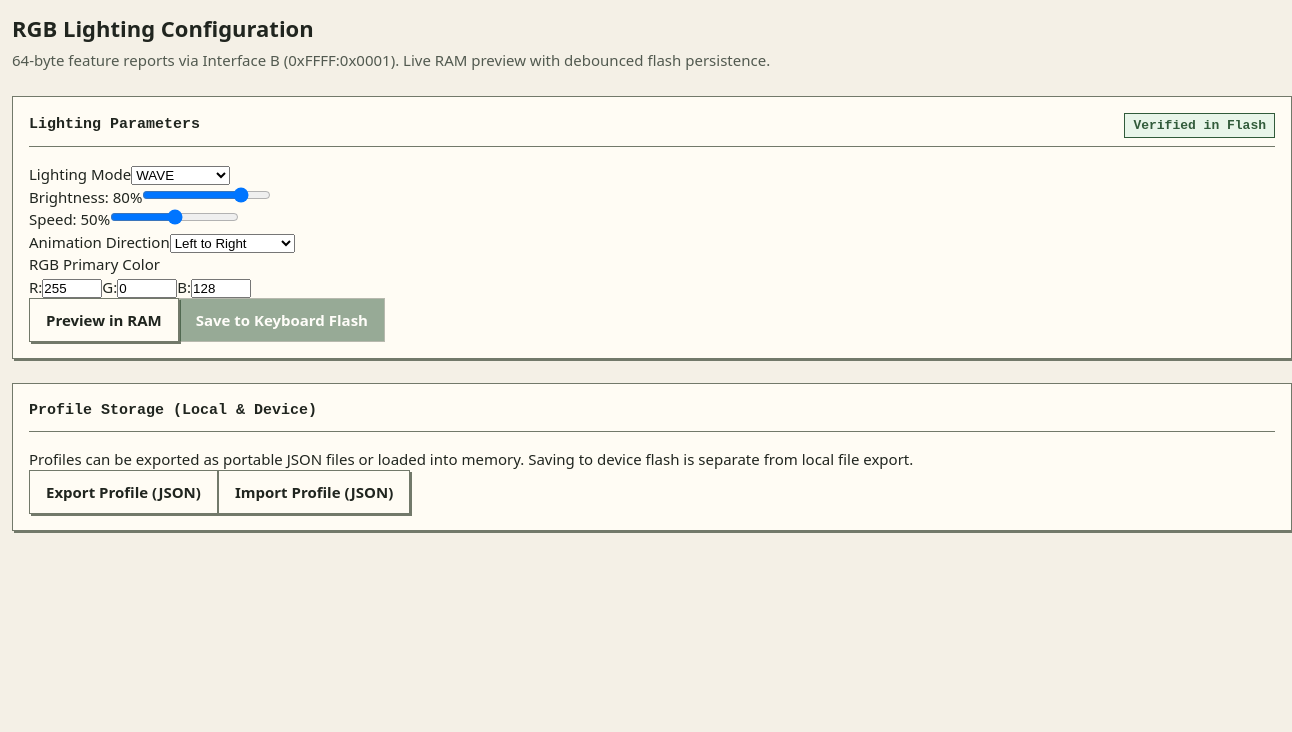
Test case: LightingPage Workflow and Safety Rails › requires explicit user confirmation before committing to flash memory
Check: the heading "RGB Lighting Configuration" is shown, box [12,13,314,43]
# Save to Keyboard Flash requires preview to be accepted first
Click the button "Preview in RAM" at {"x": 104, "y": 320}, box [29,298,179,342]
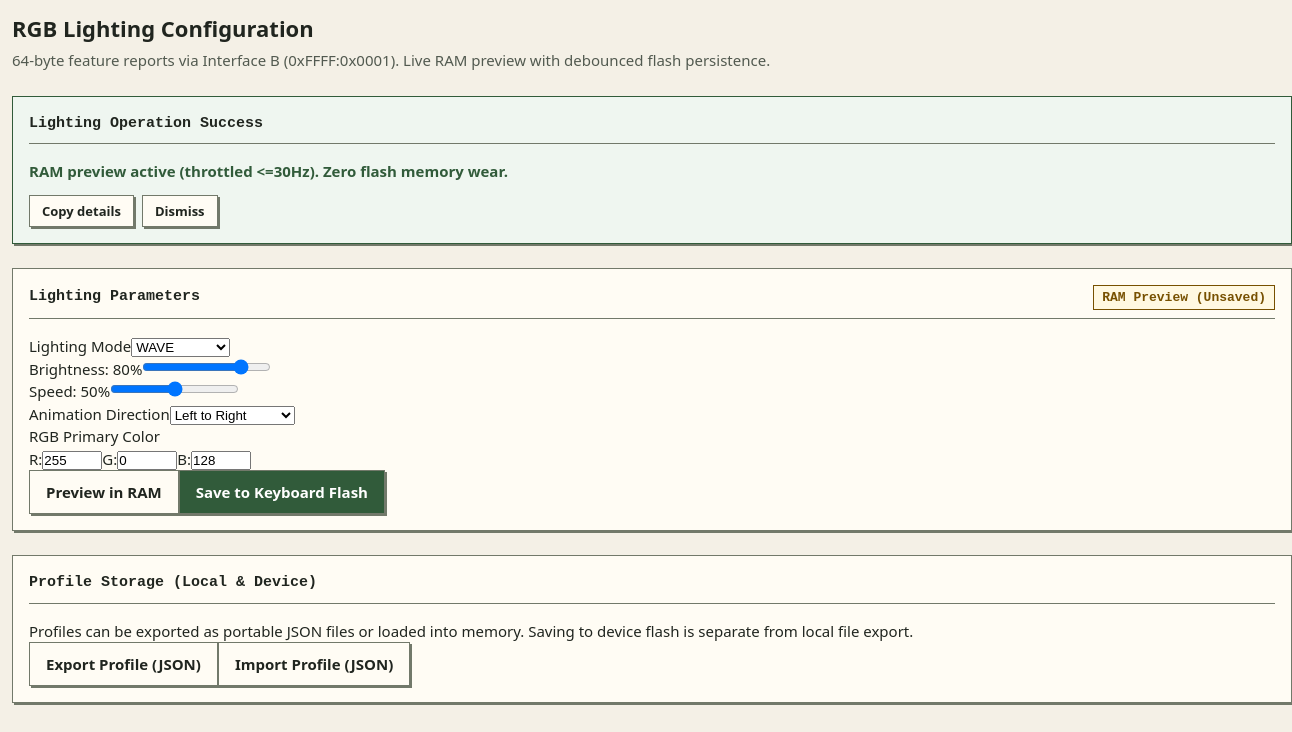
Check: the text "RAM preview active" is shown, box [29,161,508,181]
Click the button "Save to Keyboard Flash" at {"x": 282, "y": 492}, box [179,470,385,514]
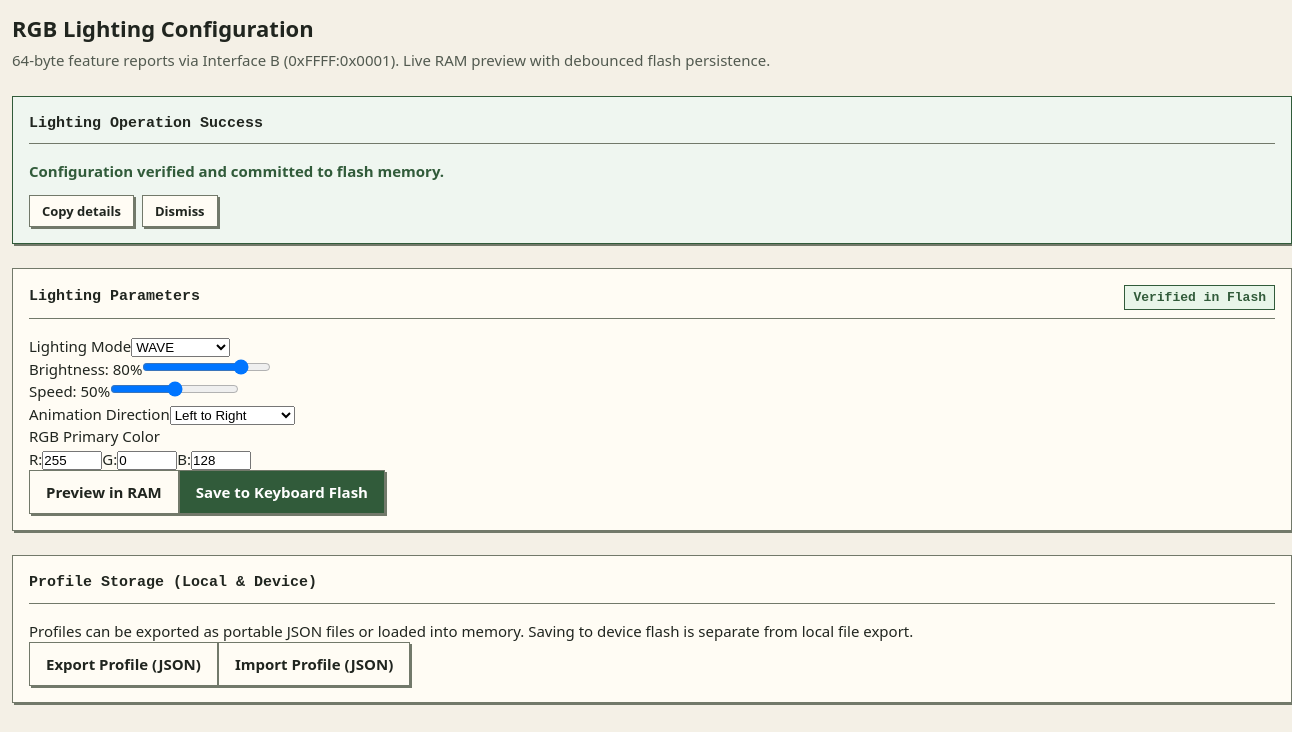
Check: the text "Verified in Flash" is shown, box [1124,284,1275,310]
